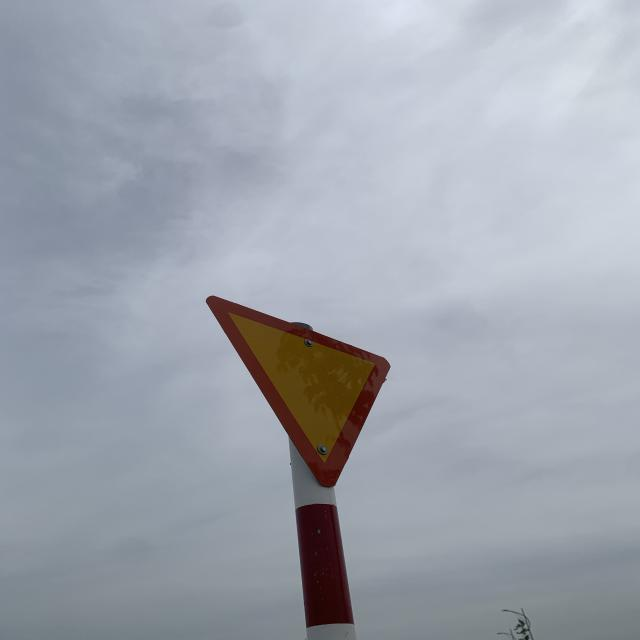Gioi_Han_Toc_Do_25: (206, 295, 392, 486)
